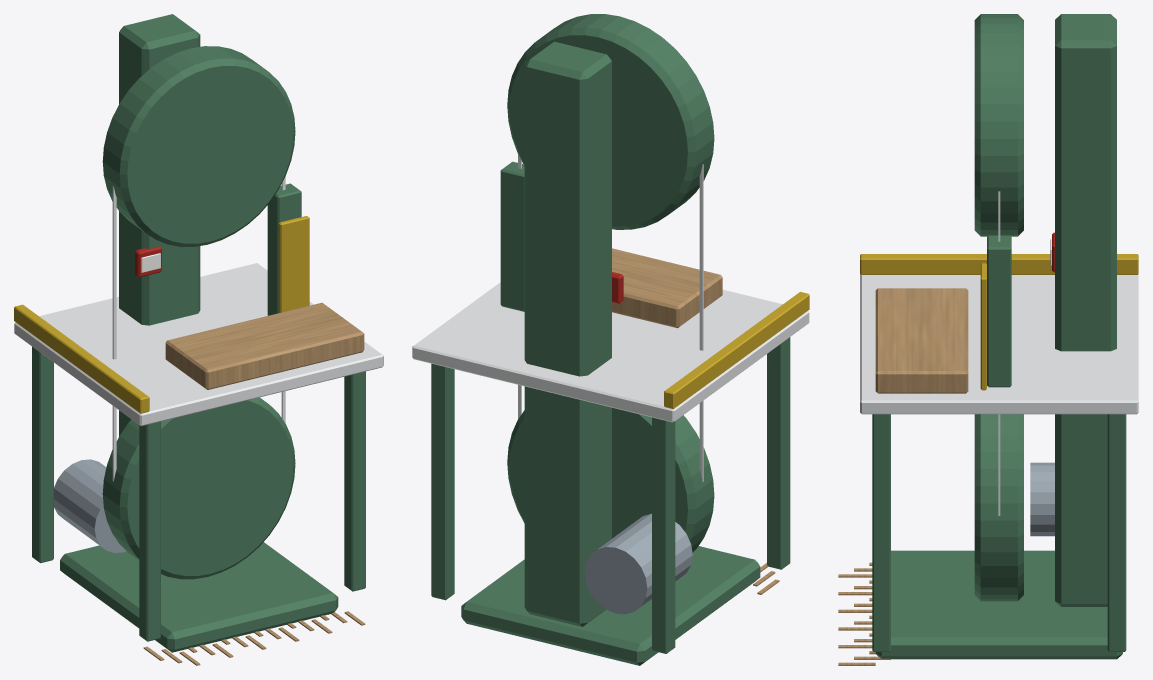
Rendered from serra_fita.glb.
3 views of the same model, side by side, from view 1: azimuth 30°, elevation 25°; view 2: azimuth 150°, elevation 25°; view 3: azimuth 270°, elevation 25° (orthographic). The views are drawn at different scales.
Parts seen in each view (by area): view 1: serra_fita_verde_maquina, serra_fita_aco_polido, serra_fita_madeira_crua, serra_fita_amarelo_maquina, serra_fita_aco_pintado; view 2: serra_fita_verde_maquina, serra_fita_aco_polido, serra_fita_madeira_crua, serra_fita_aco_pintado, serra_fita_amarelo_maquina; view 3: serra_fita_verde_maquina, serra_fita_aco_polido, serra_fita_madeira_crua, serra_fita_amarelo_maquina, serra_fita_aco_pintado.
Part boxes in pixels (left/top/right/bottom): serra_fita_verde_maquina: left=32, top=14, right=365, bottom=652; serra_fita_aco_polido: left=14, top=176, right=383, bottom=481; serra_fita_madeira_crua: left=143, top=302, right=365, bottom=665; serra_fita_amarelo_maquina: left=14, top=216, right=309, bottom=413; serra_fita_aco_pintado: left=54, top=459, right=126, bottom=552; serra_fita_verde_maquina: left=431, top=14, right=790, bottom=665; serra_fita_aco_polido: left=412, top=154, right=809, bottom=481; serra_fita_madeira_crua: left=612, top=248, right=779, bottom=594; serra_fita_aco_pintado: left=584, top=513, right=692, bottom=614; serra_fita_amarelo_maquina: left=664, top=291, right=809, bottom=408; serra_fita_verde_maquina: left=872, top=14, right=1126, bottom=659; serra_fita_aco_polido: left=860, top=191, right=1138, bottom=515; serra_fita_madeira_crua: left=838, top=288, right=968, bottom=665; serra_fita_amarelo_maquina: left=860, top=254, right=1138, bottom=390; serra_fita_aco_pintado: left=1030, top=462, right=1054, bottom=536.
Size of the model in its own units: 1 by 2.11 by 0.97.
7 materials, 1 textured.
